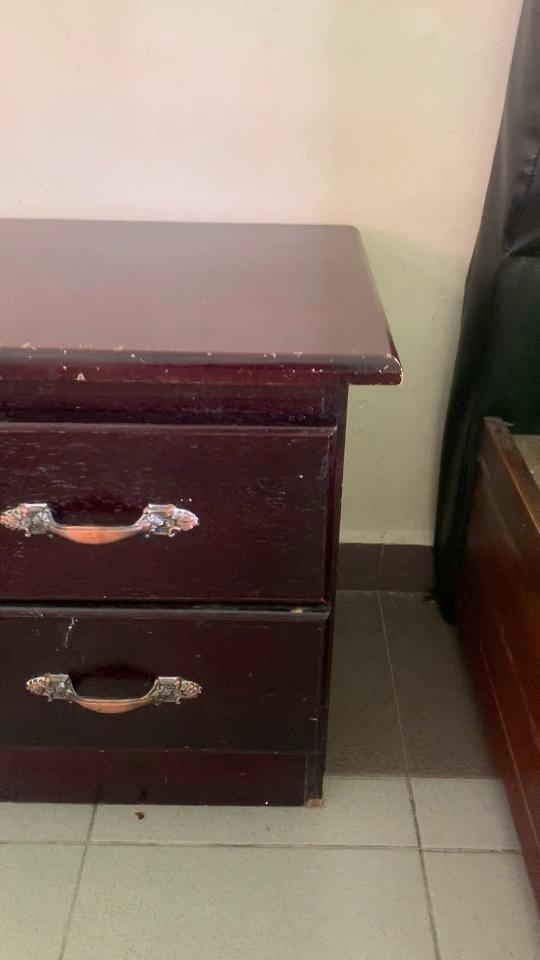cabinet_door: (0, 420, 327, 597), (0, 604, 318, 747)
handle: (2, 491, 204, 558), (18, 660, 205, 726)
